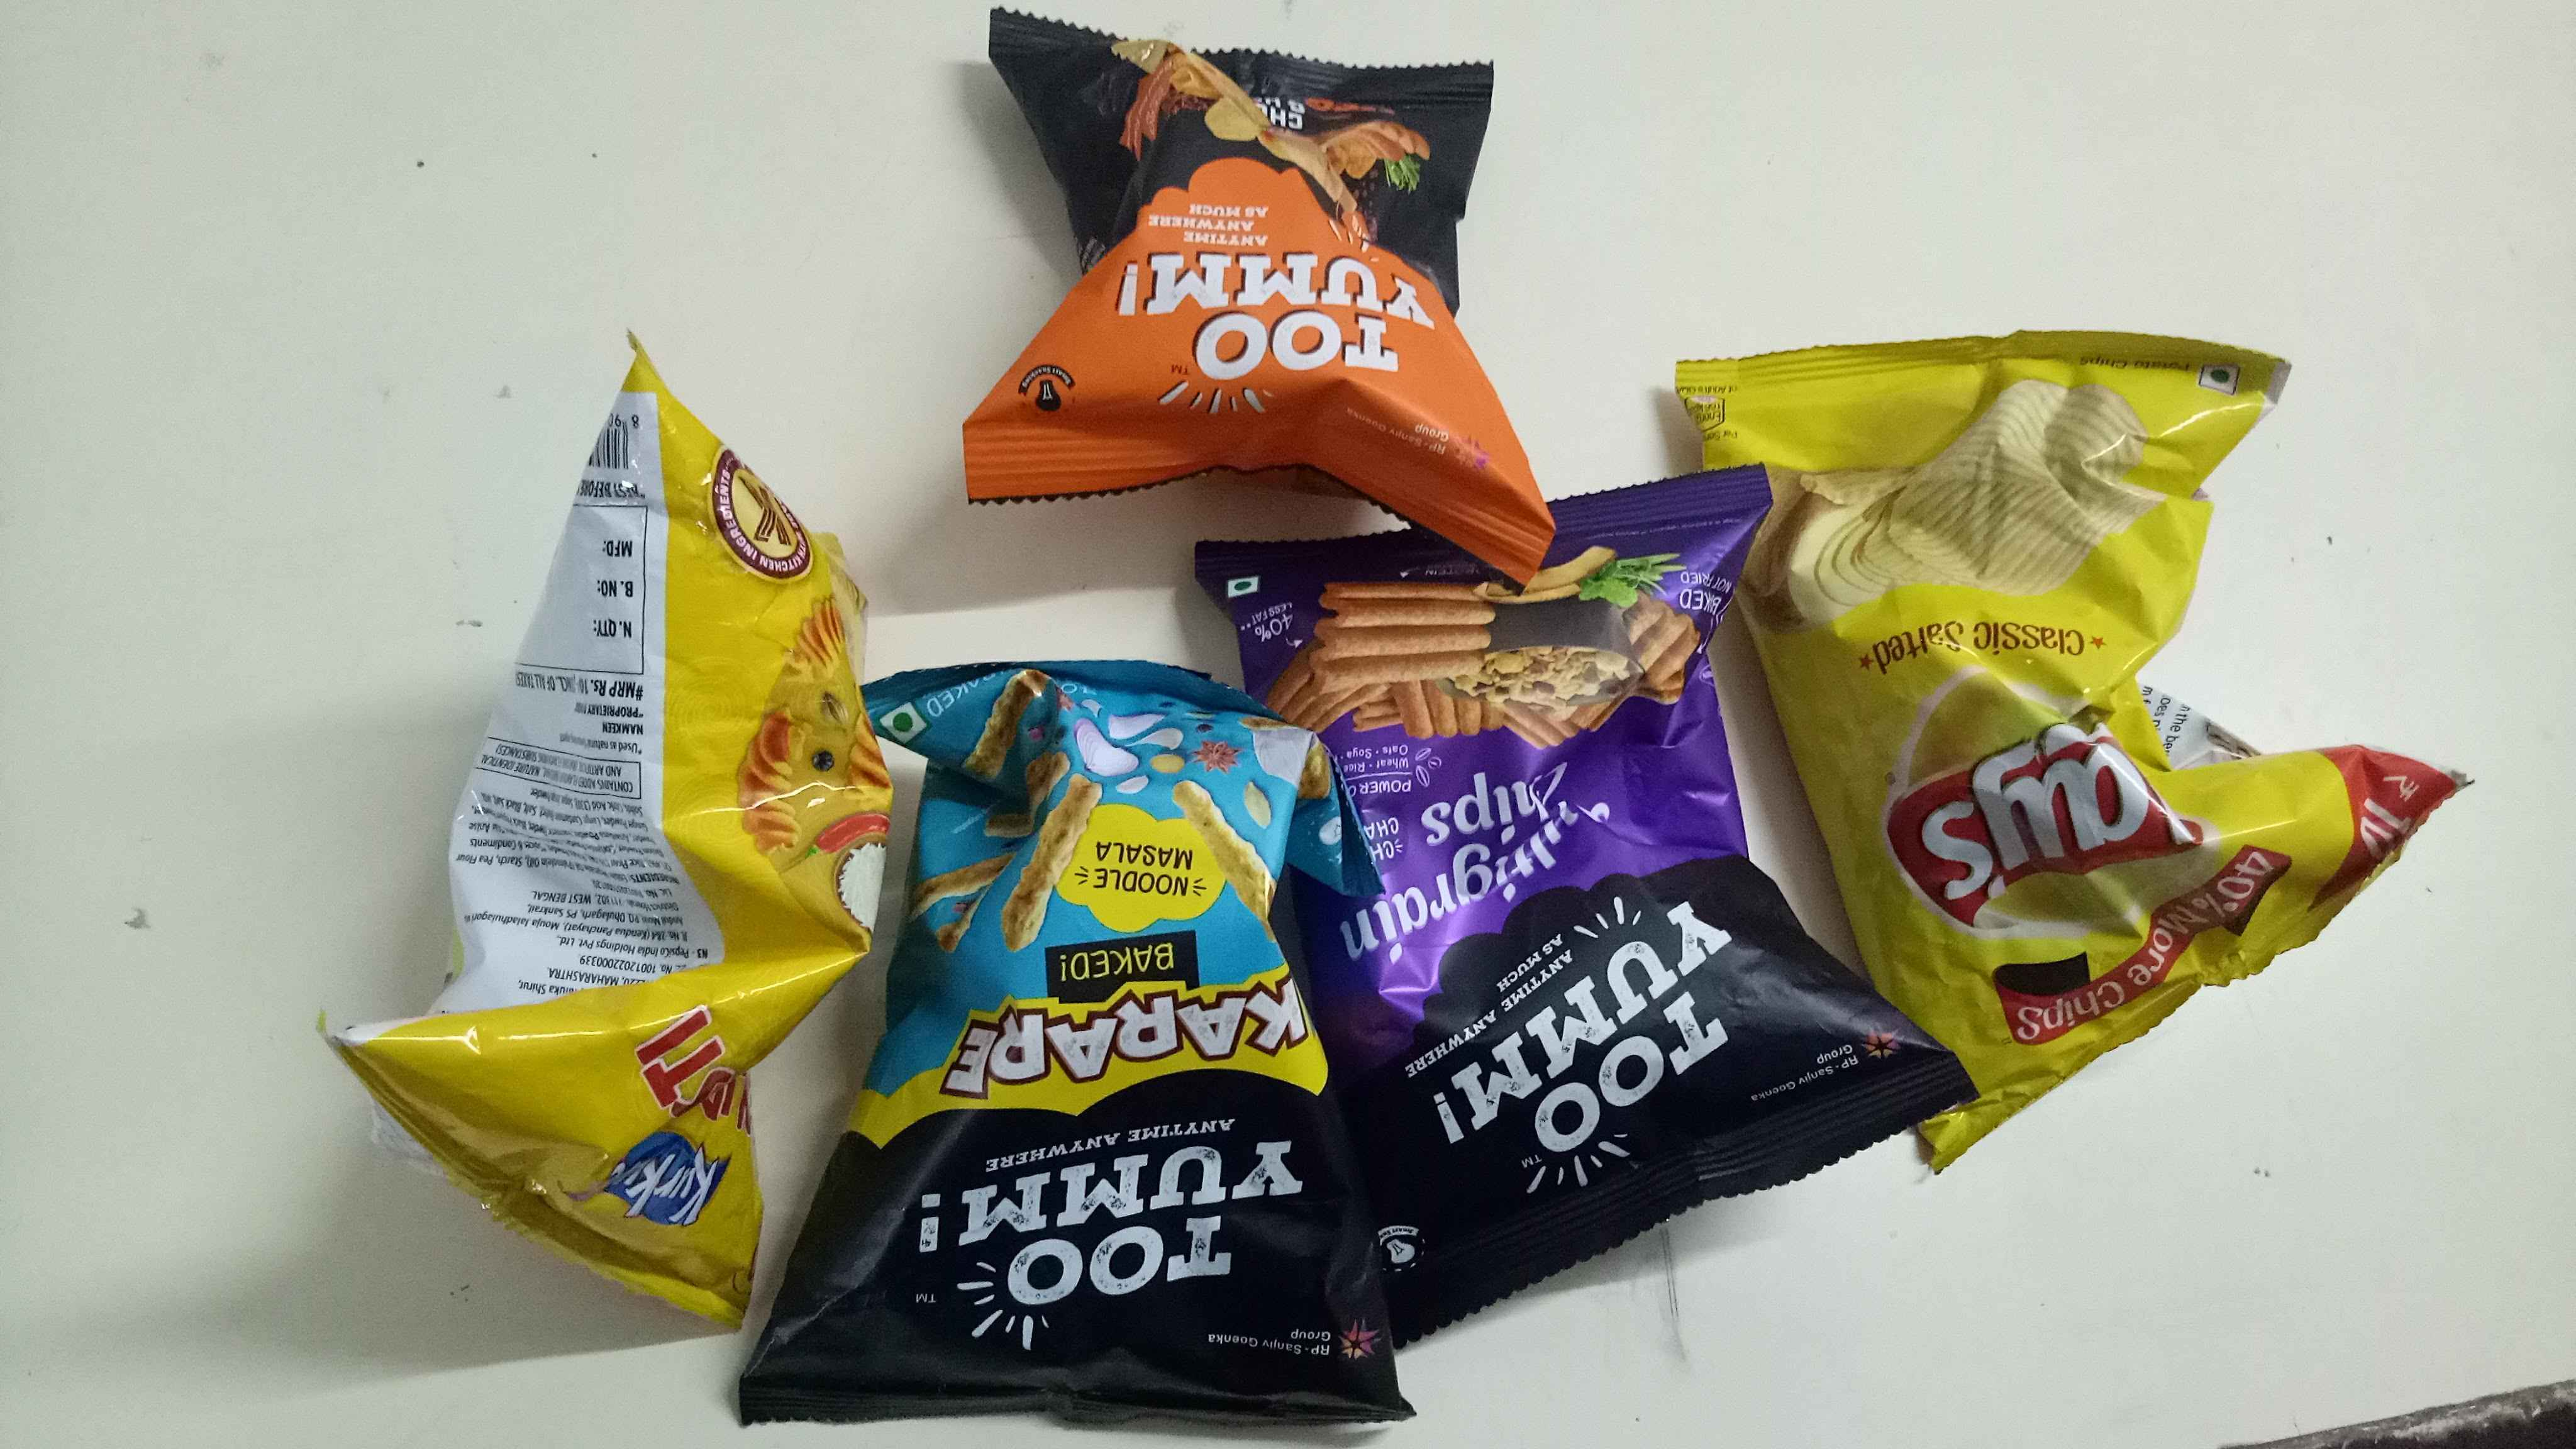Lays: (1907, 651, 2178, 998)
kurkure: (593, 1115, 747, 1231)
tooyumm: (895, 1109, 1309, 1376), (1435, 890, 1750, 1191), (1099, 241, 1449, 418)
